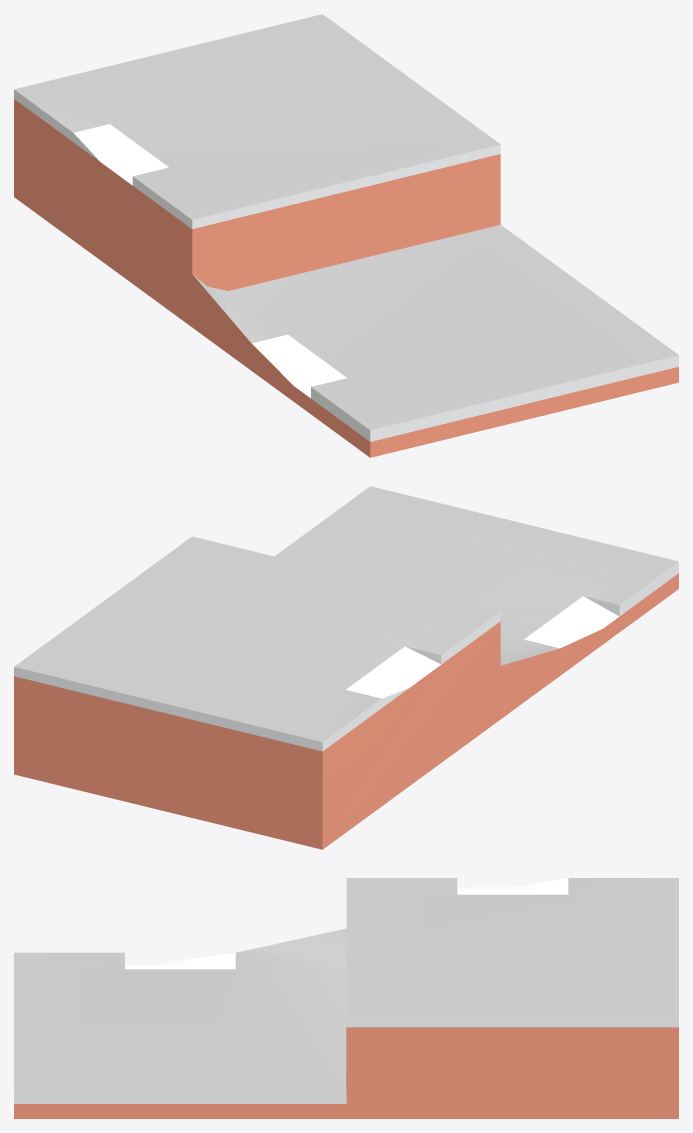
The model's file is platform_004.glb.
3 renders of one model, top to bottom at view 1: azimuth 30°, elevation 25°; view 2: azimuth 150°, elevation 25°; view 3: azimuth 270°, elevation 25°, orthographic. The views are drawn at different scales.
Visible parts, largest first — view 1: platform_004; view 2: platform_004; view 3: platform_004.
Boxes of the visible parts, <box> form: platform_004: <box>14,14,678,457</box>; platform_004: <box>14,486,678,849</box>; platform_004: <box>14,878,678,1118</box>.
Size of the model in its own units: 15 by 5 by 30.
Materials: 1 (1 with a texture image).
